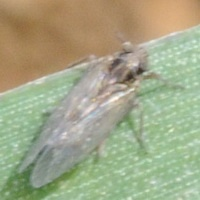insect: (18, 40, 166, 186)
